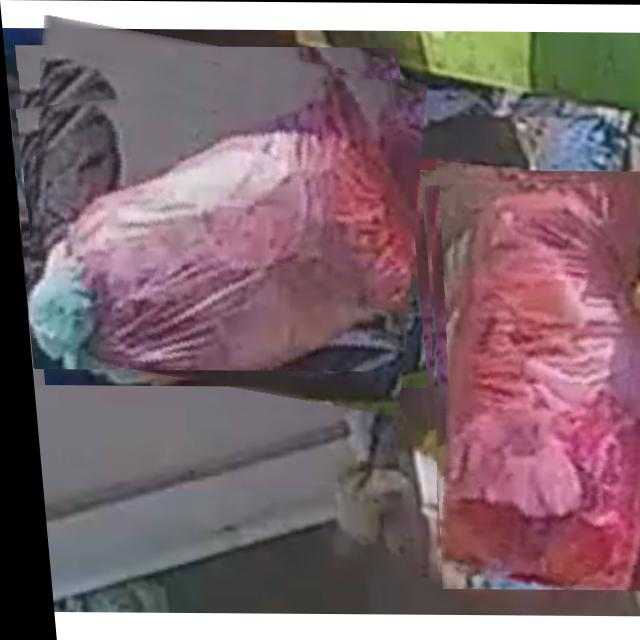other_trashbag: (22, 73, 404, 369), (431, 177, 640, 589)
